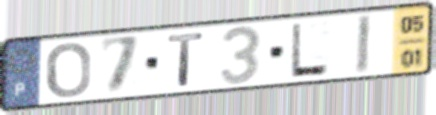3: (219, 24, 266, 87)
7: (98, 36, 141, 97)
I: (354, 13, 374, 77)
L: (288, 20, 332, 79)
O: (44, 41, 93, 101)
T: (165, 30, 207, 89)
